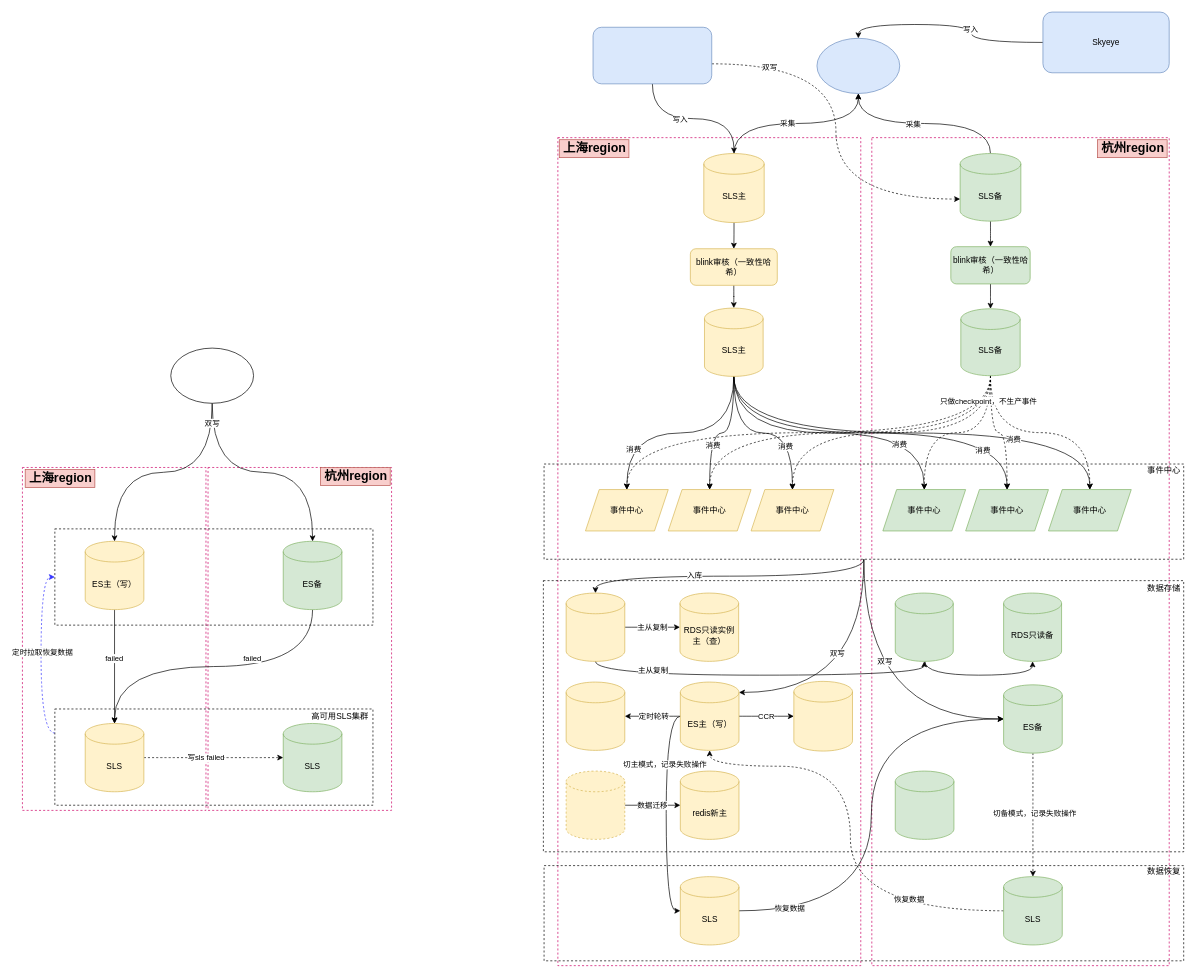
This 1196x978 diagram has some shape labels left out. Each missing label, with the box of its shape:
ES冷: (565, 681, 625, 750)
ES备（查）: (793, 681, 852, 751)
Log: (816, 38, 900, 93)
RDS主（写）: (565, 592, 625, 661)
RDS备: (895, 592, 953, 661)
redis备: (895, 770, 954, 839)
redis老: (565, 770, 625, 839)
事件创建/更新: (170, 347, 254, 403)
异常检测平台Blink: (592, 27, 712, 84)
